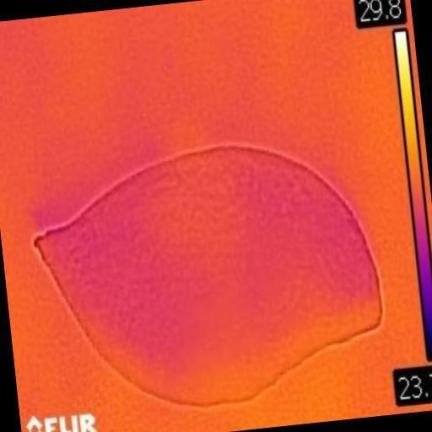mango: (36, 147, 381, 404)
